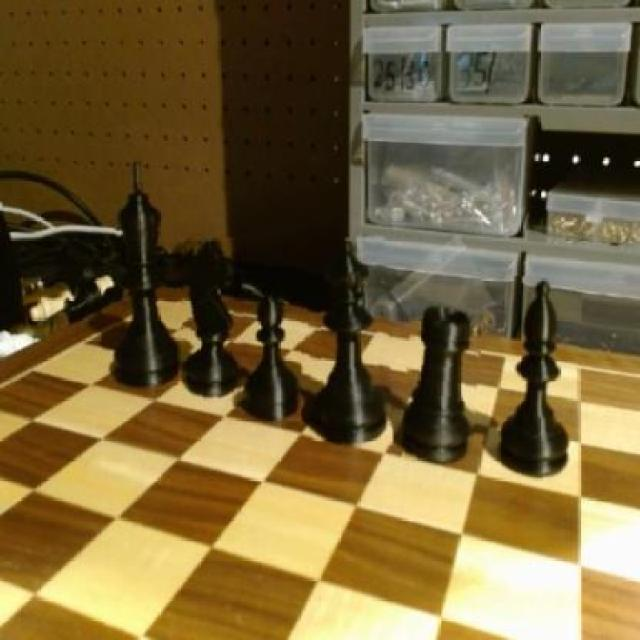bishop: (506, 277, 579, 483)
black-bishop: (116, 150, 182, 384)
black-king: (178, 237, 247, 408)
black-knight: (246, 292, 302, 427)
black-pawn: (306, 237, 392, 451)
black-queen: (404, 297, 480, 465)
